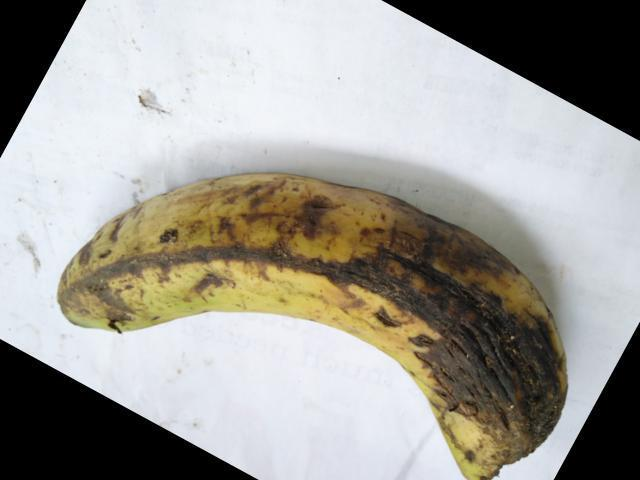rotten: (50, 162, 588, 470)
